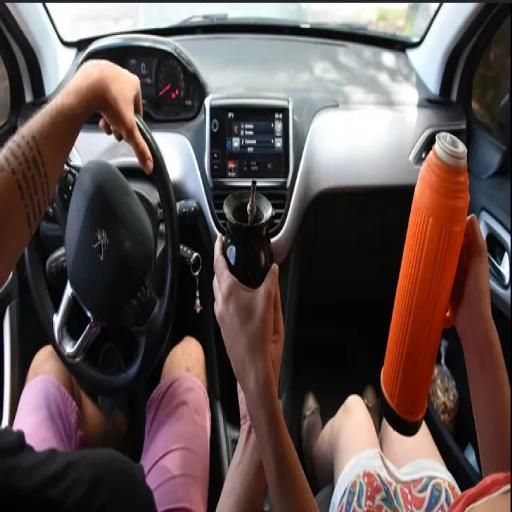mate: (223, 171, 275, 293)
termo: (381, 132, 469, 436)
